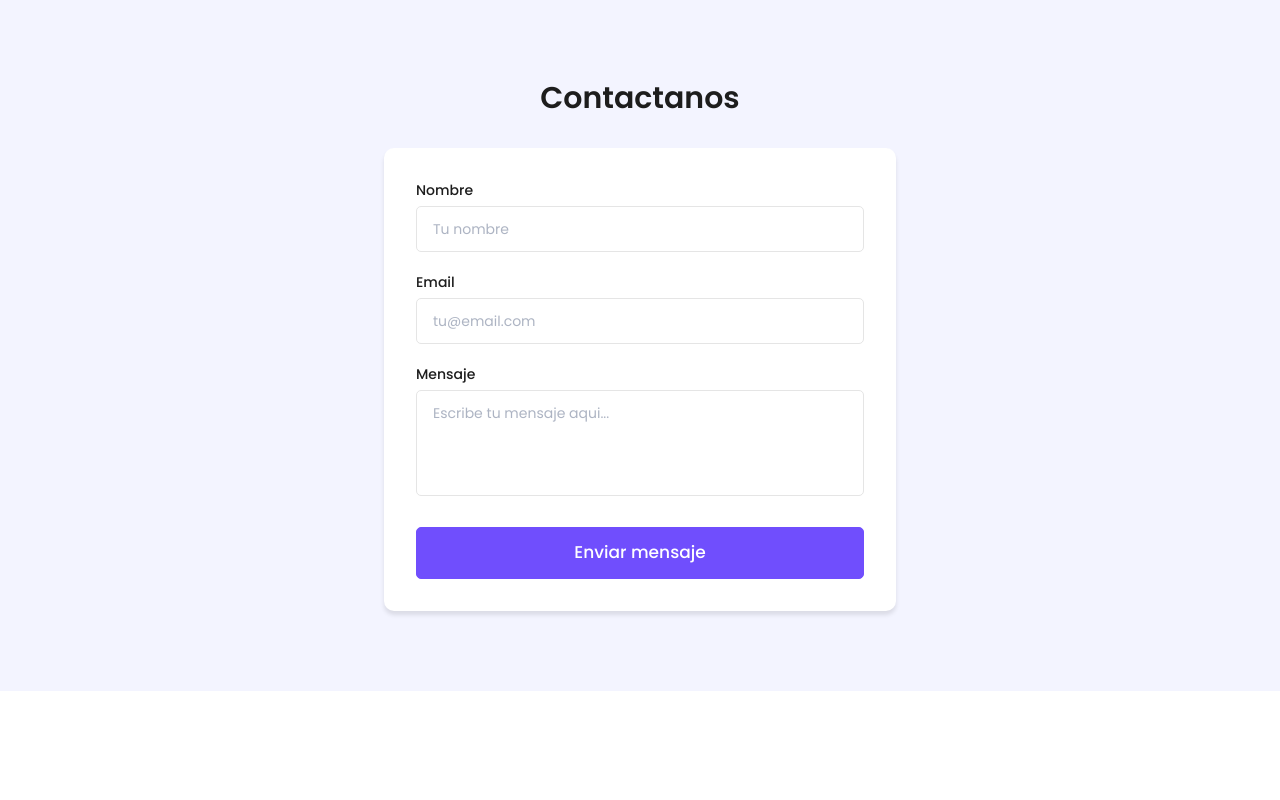
Test case: ContactForm › shows error for empty name
This screenshot has width=1280, height=800.
Click the button "Enviar mensaje": (640, 553) [416,527,864,578]
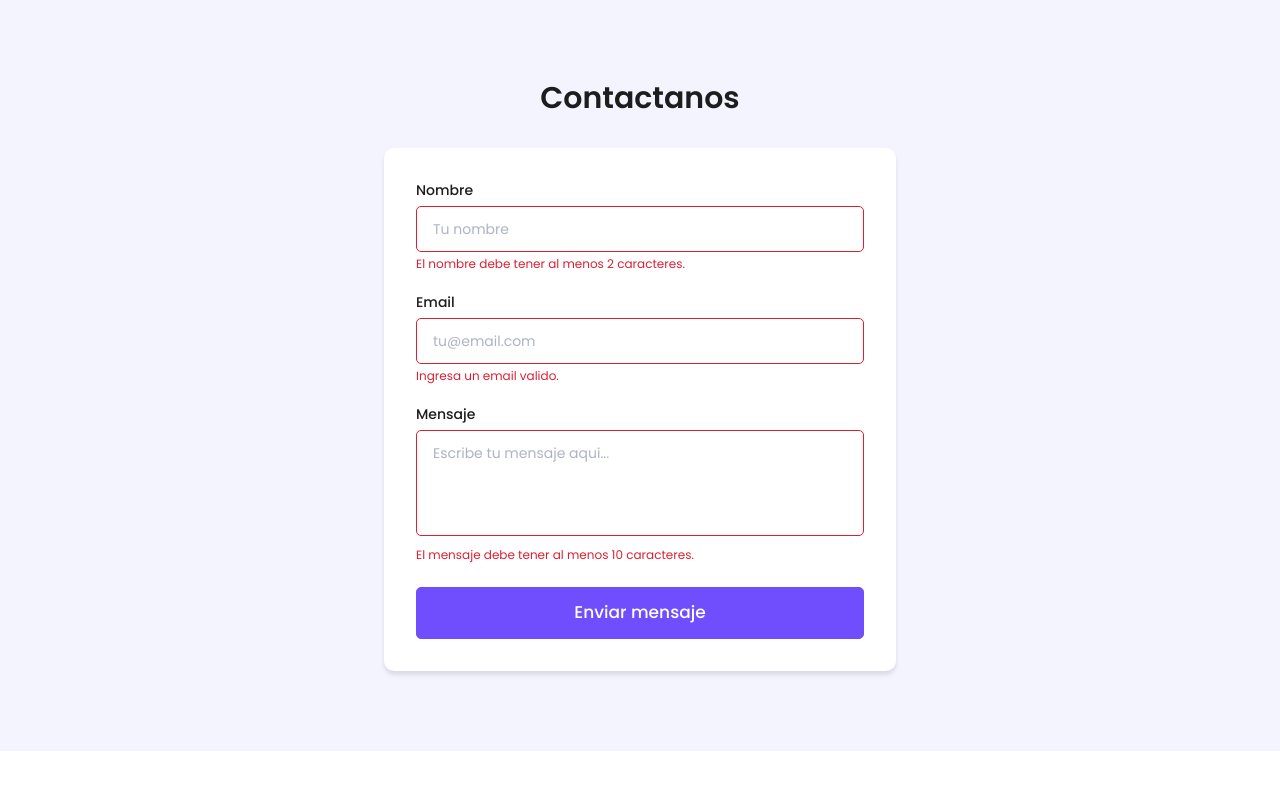
Result: the text "El nombre debe tener al menos 2 caracteres." is shown at [416,255,685,272]
